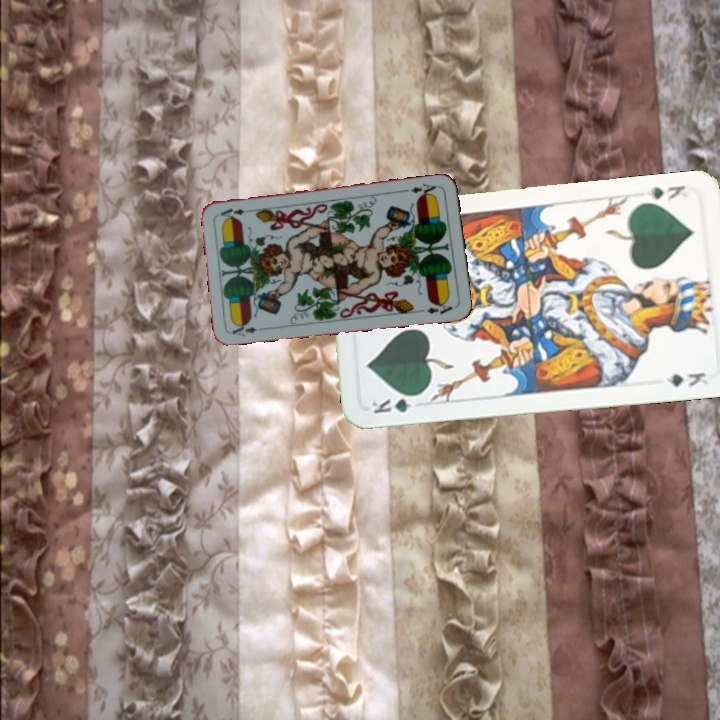EA: (228, 319, 268, 339), (406, 179, 442, 199)
GK: (368, 391, 424, 416), (641, 181, 690, 205)
